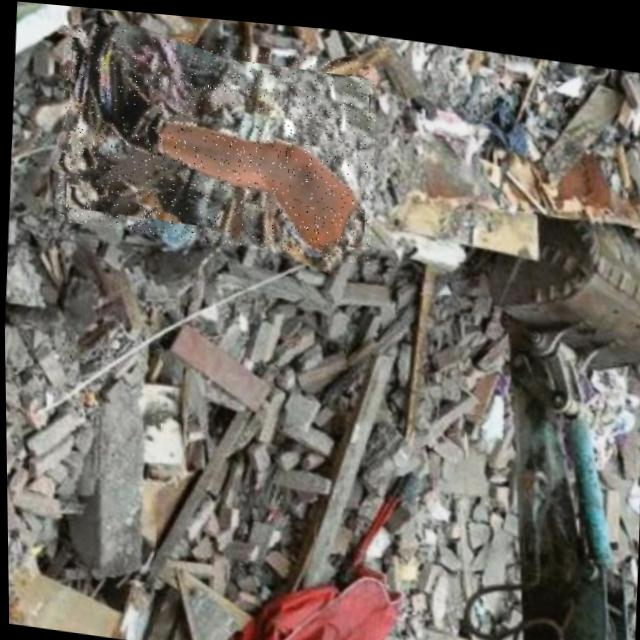Person in Rubble: (53, 19, 379, 258)
